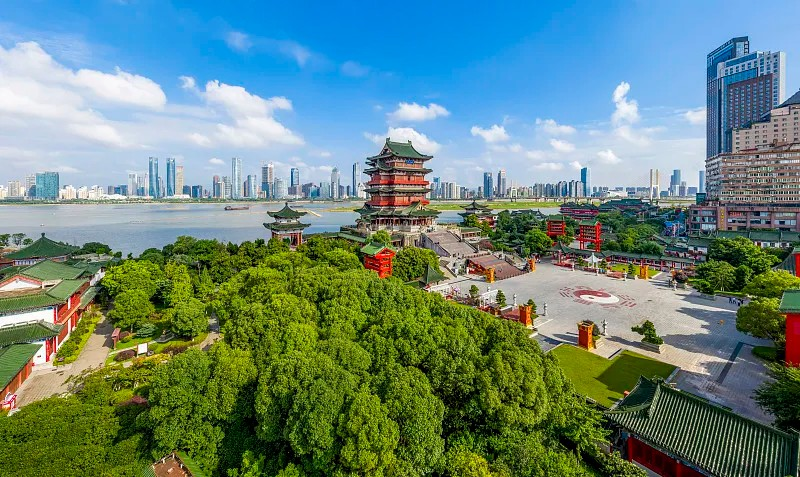Teng: (354, 136, 444, 225)
